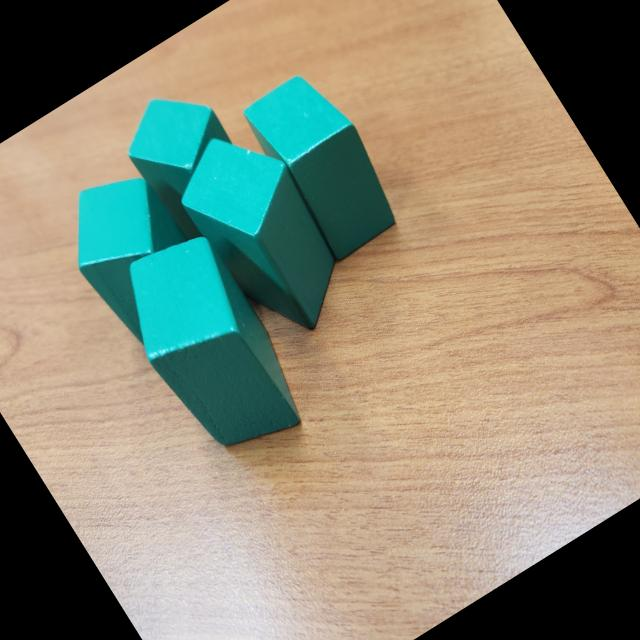green: (98, 219, 320, 475), (160, 112, 369, 354), (43, 154, 226, 356), (237, 63, 412, 266), (108, 71, 268, 248)
